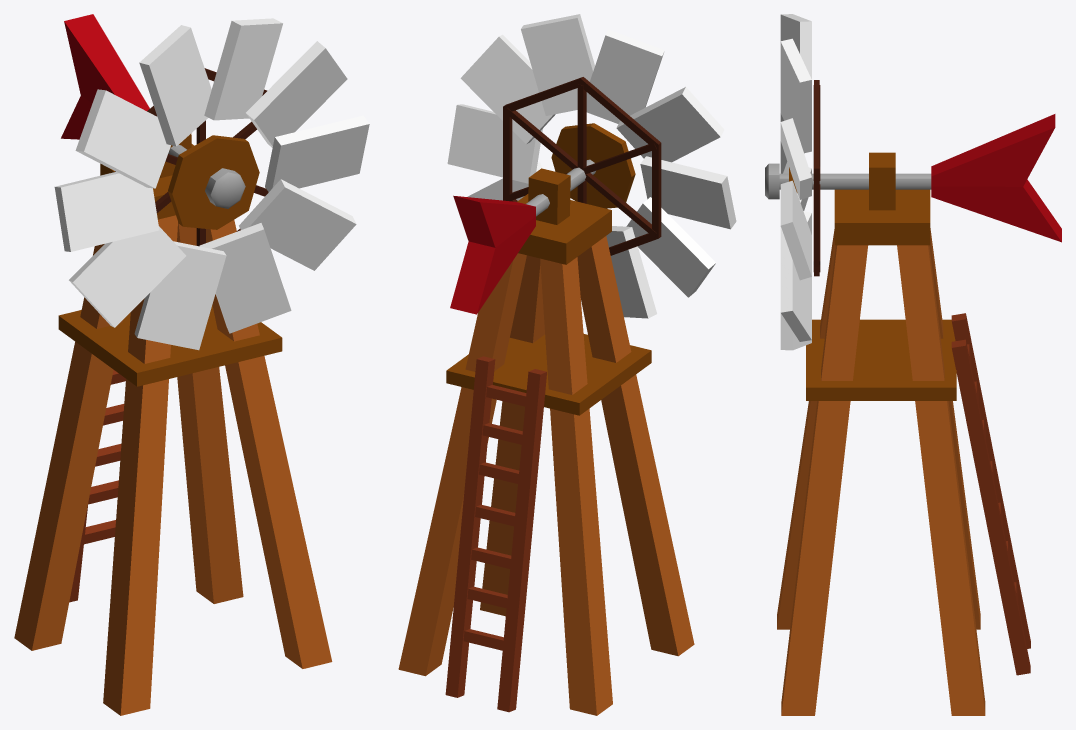
The model's file is Wind_Mill.fbx.
3 views of the same model, side by side, from view 1: azimuth 30°, elevation 25°; view 2: azimuth 150°, elevation 25°; view 3: azimuth 270°, elevation 25° (orthographic). The views are drawn at different scales.
Parts seen in each view (by area): view 1: WindMill.001; view 2: WindMill.001; view 3: WindMill.001.
Boxes of the visible parts, x1,y1,x2,y2 form: WindMill.001: (14,14,369,715); WindMill.001: (398,14,736,715); WindMill.001: (765,14,1061,715).
Bounding box in the file's own units: 135 × 284 × 121.
